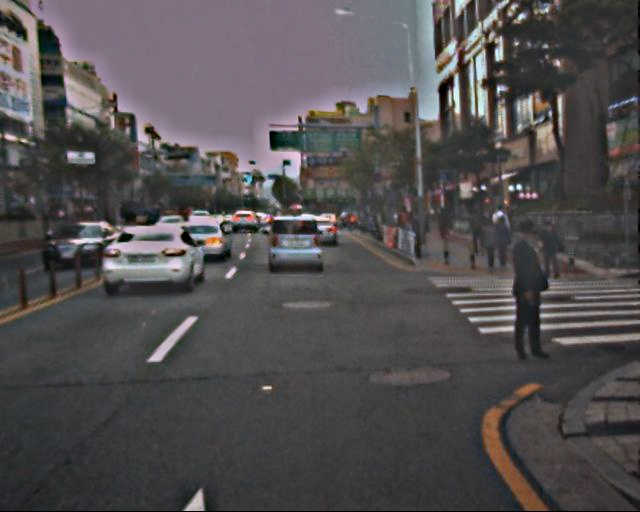person: (494, 219, 553, 362), (536, 218, 561, 279), (492, 215, 513, 267), (490, 205, 511, 257), (478, 218, 497, 265), (467, 211, 485, 254), (436, 204, 450, 238)
